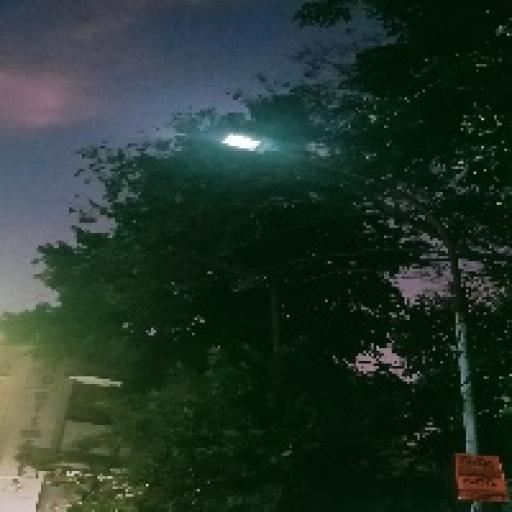Working: (210, 123, 268, 161)
